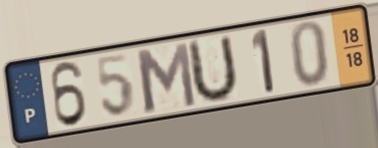0: (287, 18, 334, 91)
1: (249, 27, 278, 96)
5: (94, 53, 139, 120)
6: (48, 59, 90, 130)
M: (132, 39, 199, 115)
U: (187, 32, 241, 107)
